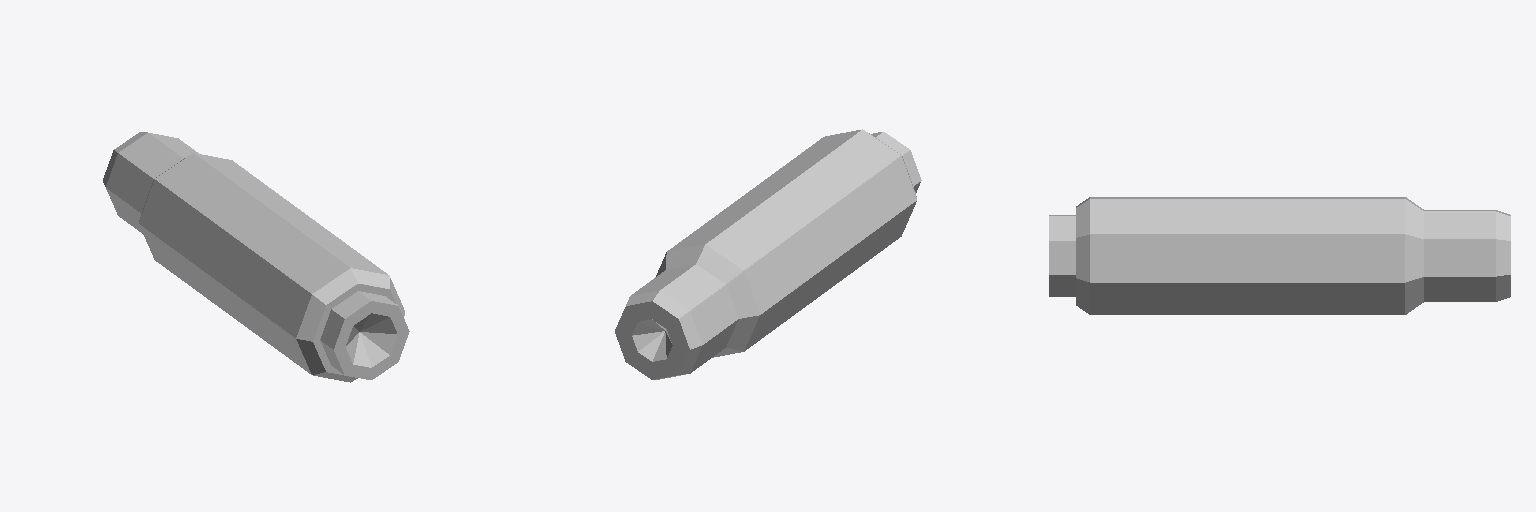
Rendered from Suppressor_East.obj.
3 views of the same model, side by side, from view 1: azimuth 30°, elevation 25°; view 2: azimuth 150°, elevation 25°; view 3: azimuth 270°, elevation 25° (orthographic).
Parts seen in each view (by area): view 1: Suppressor_East; view 2: Suppressor_East; view 3: Suppressor_East.
Boxes of the visible parts, <box> form: Suppressor_East: <box>103,132,409,382</box>; Suppressor_East: <box>615,129,921,379</box>; Suppressor_East: <box>1049,197,1510,314</box>.
Bounding box in the file's own units: 0.0416 × 0.0416 × 0.152.